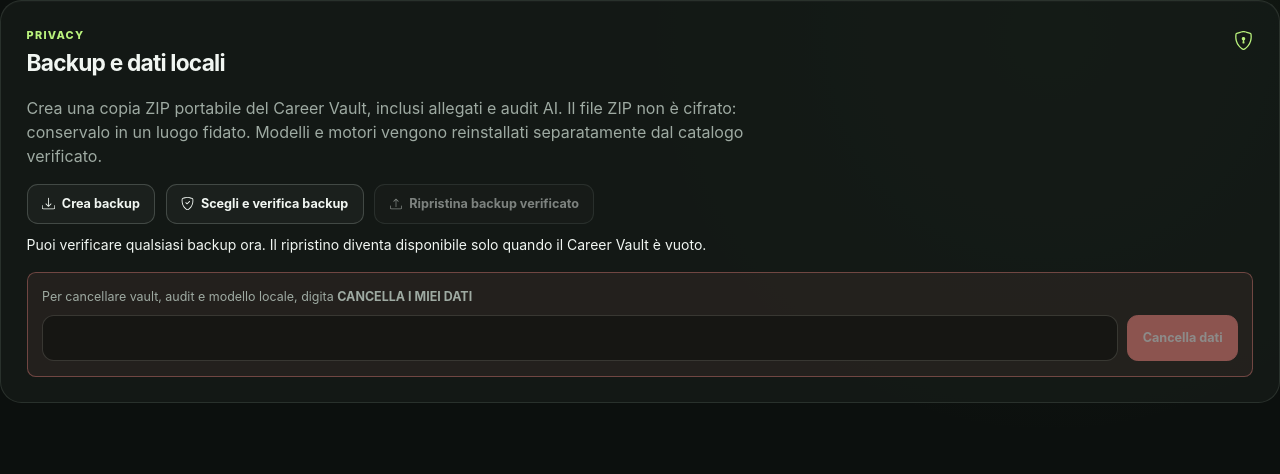
DataRecoveryPanel › shows an empty-vault rejection from the API and leaves backup available to retry
Click the button "Crea backup". click: (91, 204)
box: 27,184 -> 155,224
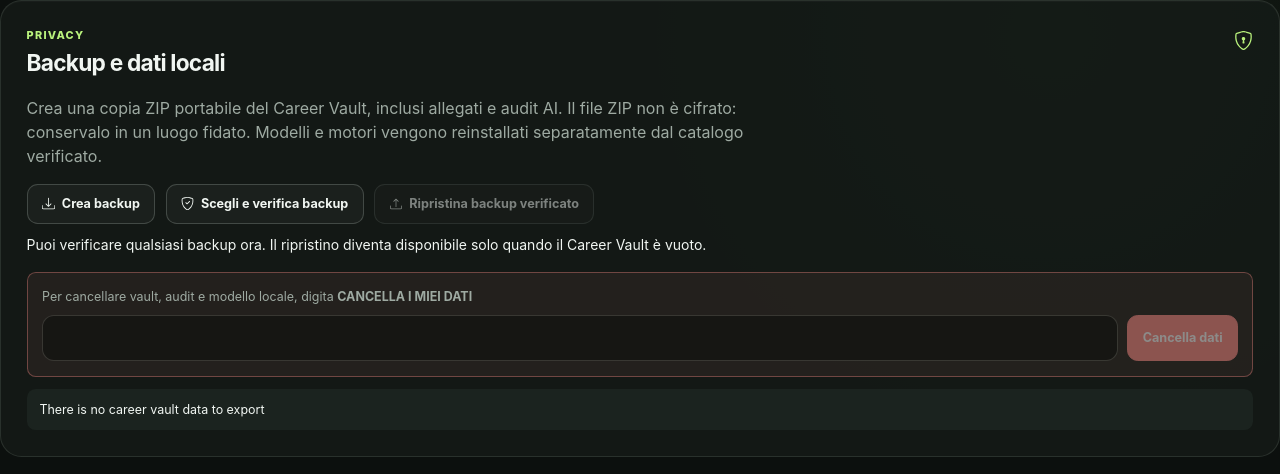
Expected: the message reads "There is no career vault data to export", 39,402 -> 264,416
